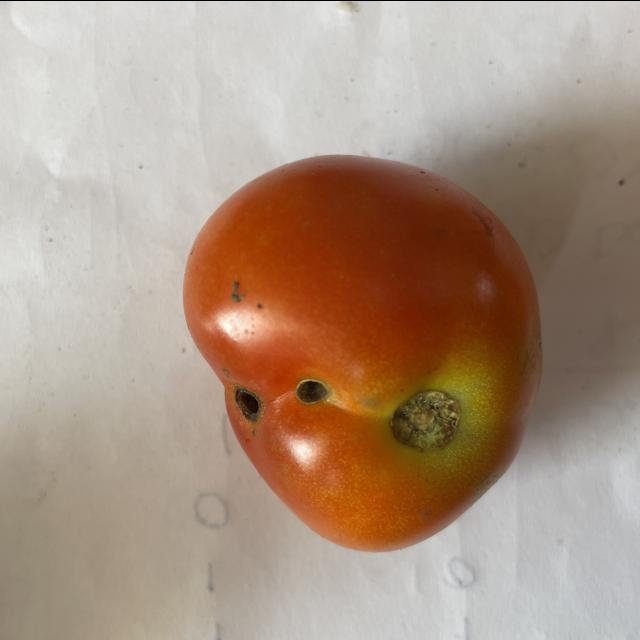fruitworm_bore: (227, 371, 333, 425)
